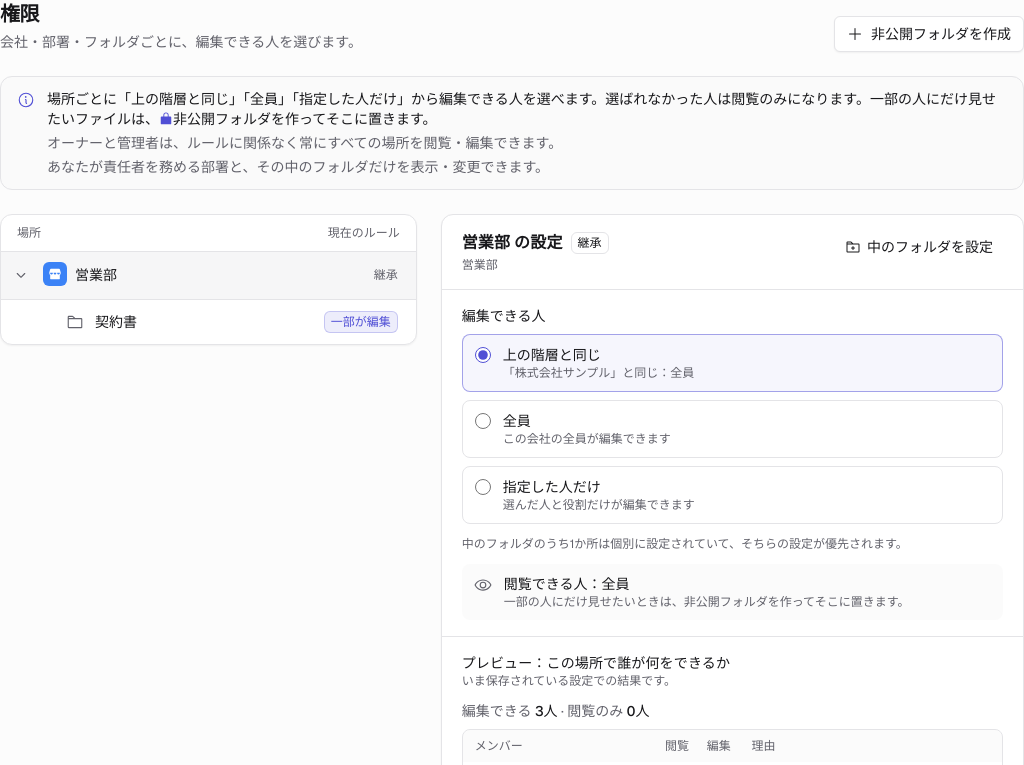
it: outdated apps (409 OUTDATED_CLIENTS) › a department manager gets the explanation but no override
The width and height of the screenshot is (1024, 765).
Click the button "契約書 一部が編集" at (116, 322), box [57,306,404,338]
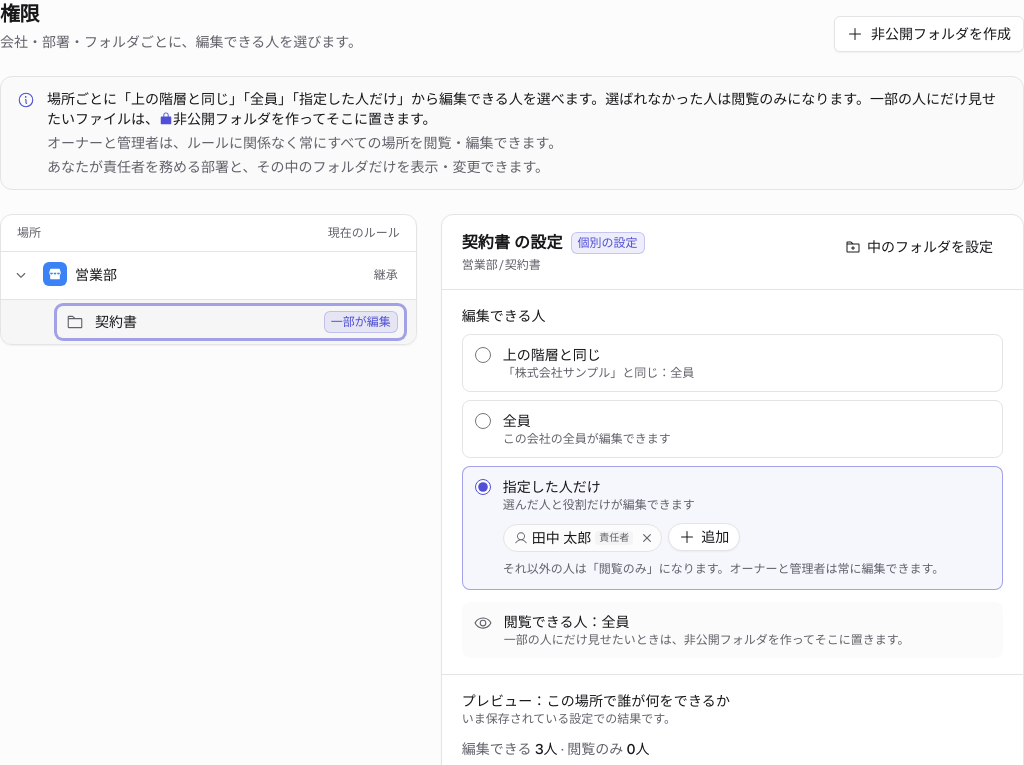
Click the button named "田中 太郎を外す" at (647, 538), box [637,528,657,548]
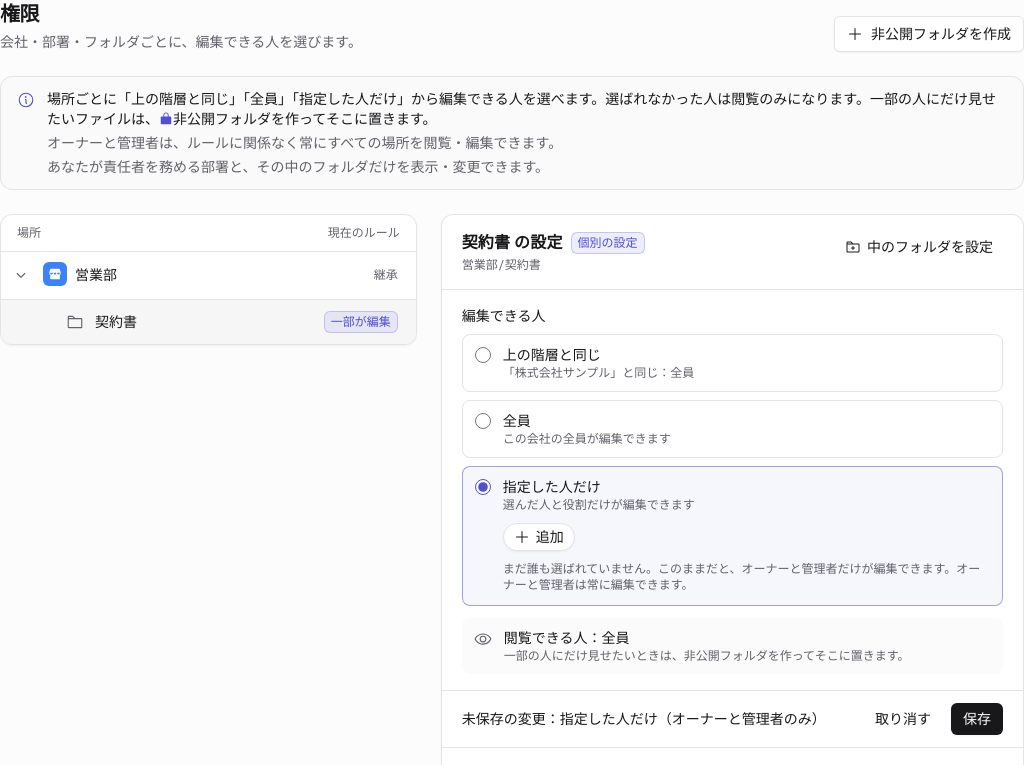
Click the button "保存" at (977, 719), box [951,703,1003,735]
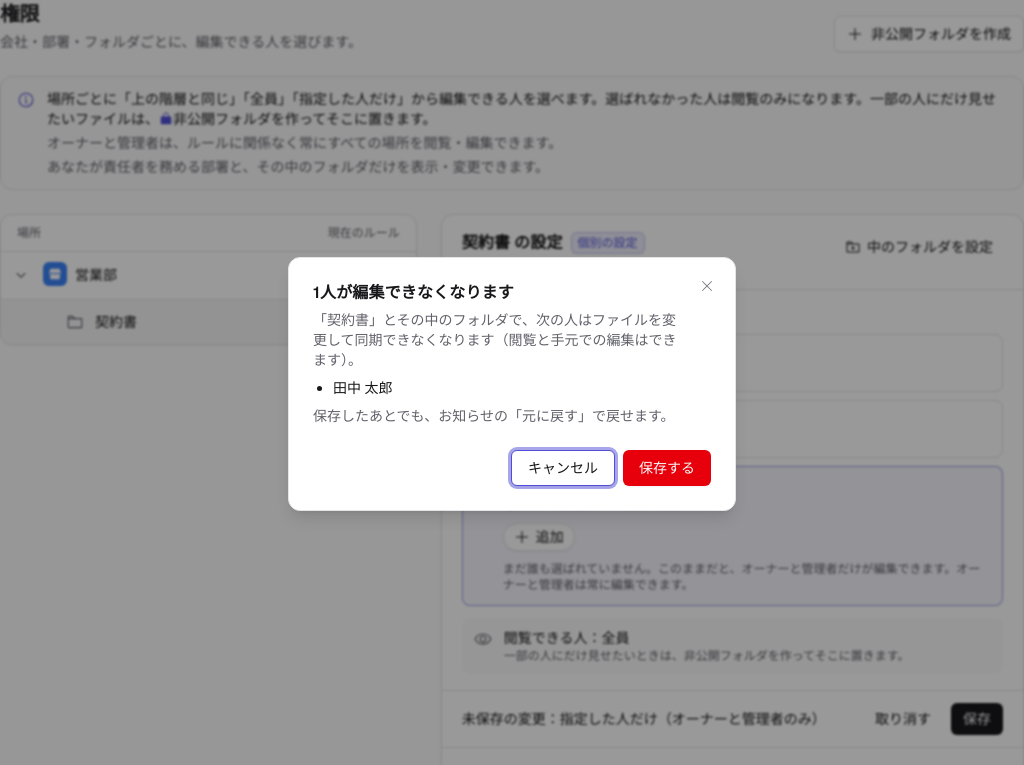
Click the button "保存する" at (667, 468), box [623,450,711,486]
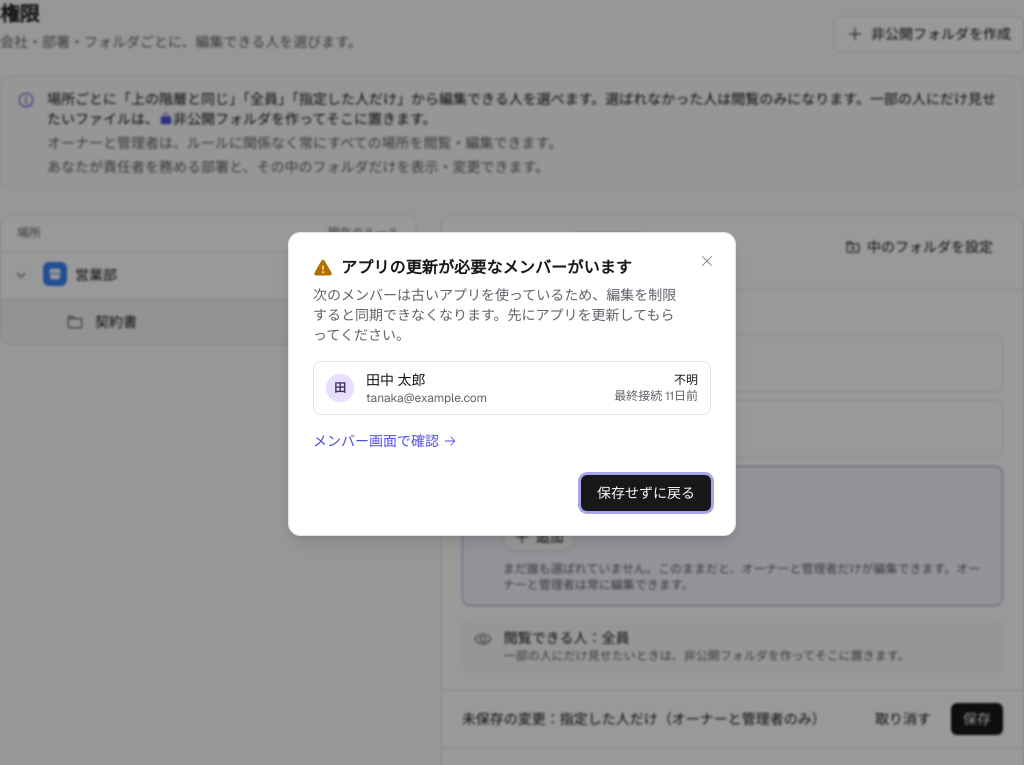
Result: the text "次のメンバーは古いアプリを使っているため、編集を制限すると同期できなくなります。先にアプリを更新してもらってください。" is shown at [313,285,687,345]
Result: the link "メンバー画面で確認" is shown at [313,432,457,450]
